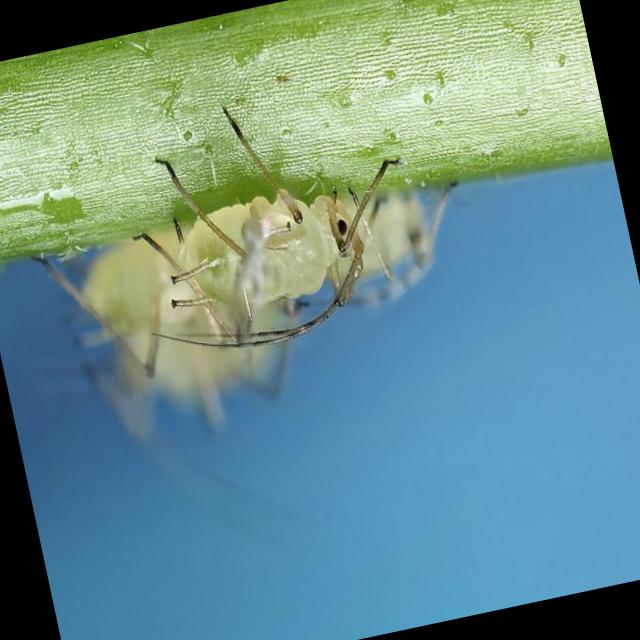Aphids: (138, 110, 428, 370)
